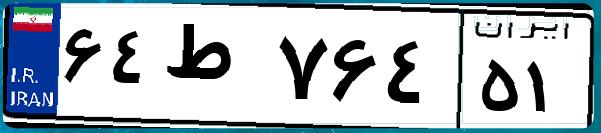1: (525, 38, 570, 115)
4: (385, 28, 445, 110), (110, 28, 158, 98)
5: (475, 38, 525, 113)
6: (330, 28, 385, 110), (57, 26, 110, 100)
7: (270, 28, 330, 110)
ط: (158, 20, 270, 120)
